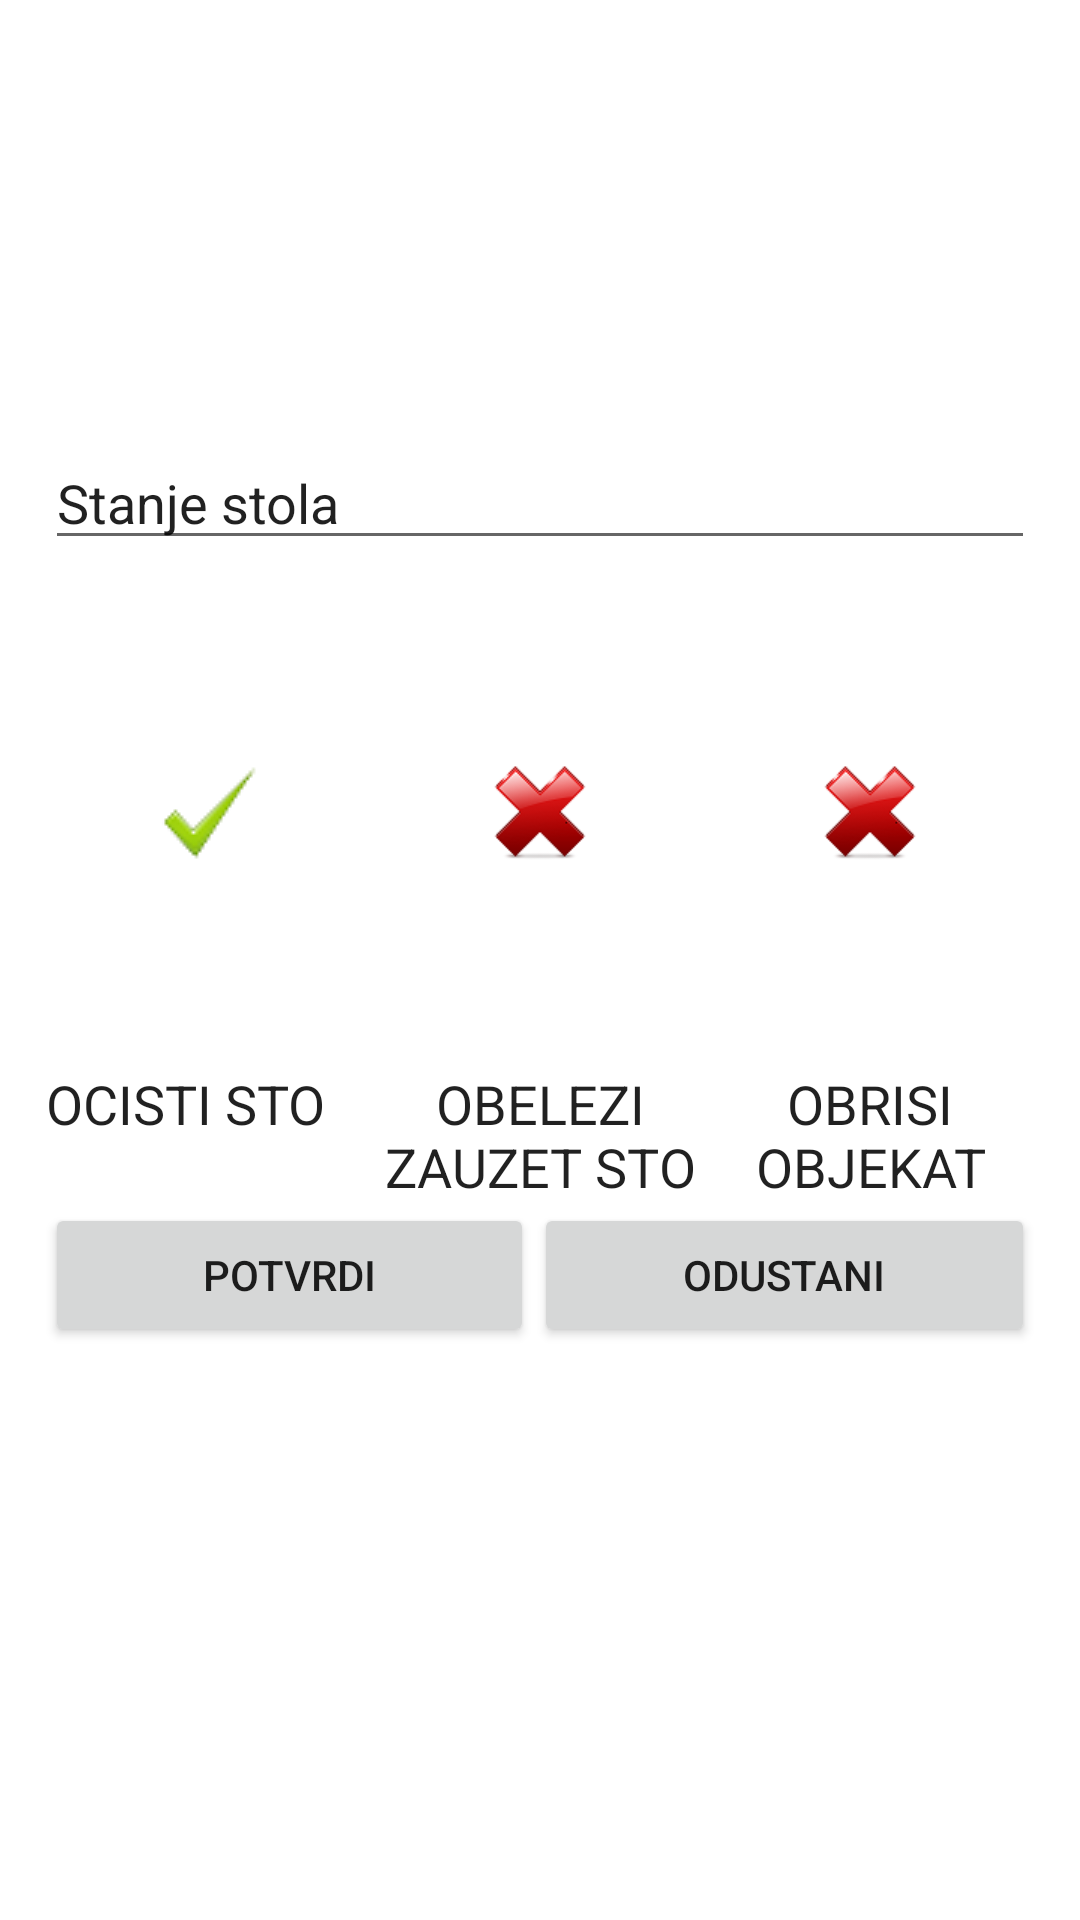

Named icons in this screenshot (1080 x 1920) and their centers, (x=x, y=y):
error: (x=540, y=812), (x=870, y=812)
